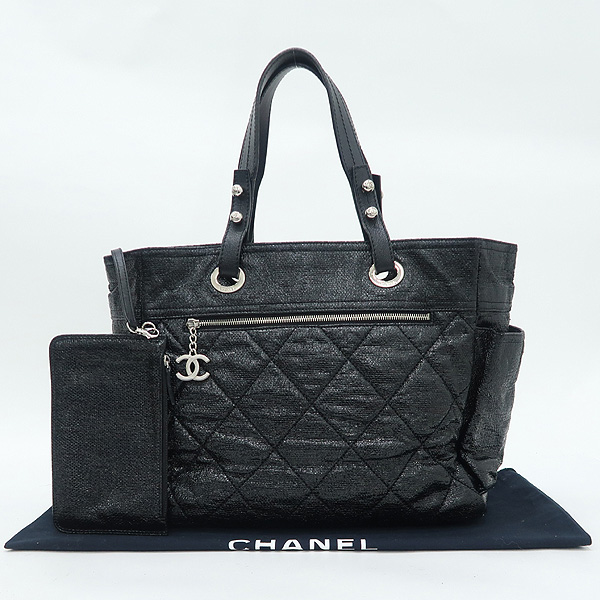channel: (90, 210, 549, 529), (218, 538, 382, 560), (160, 351, 225, 393)
